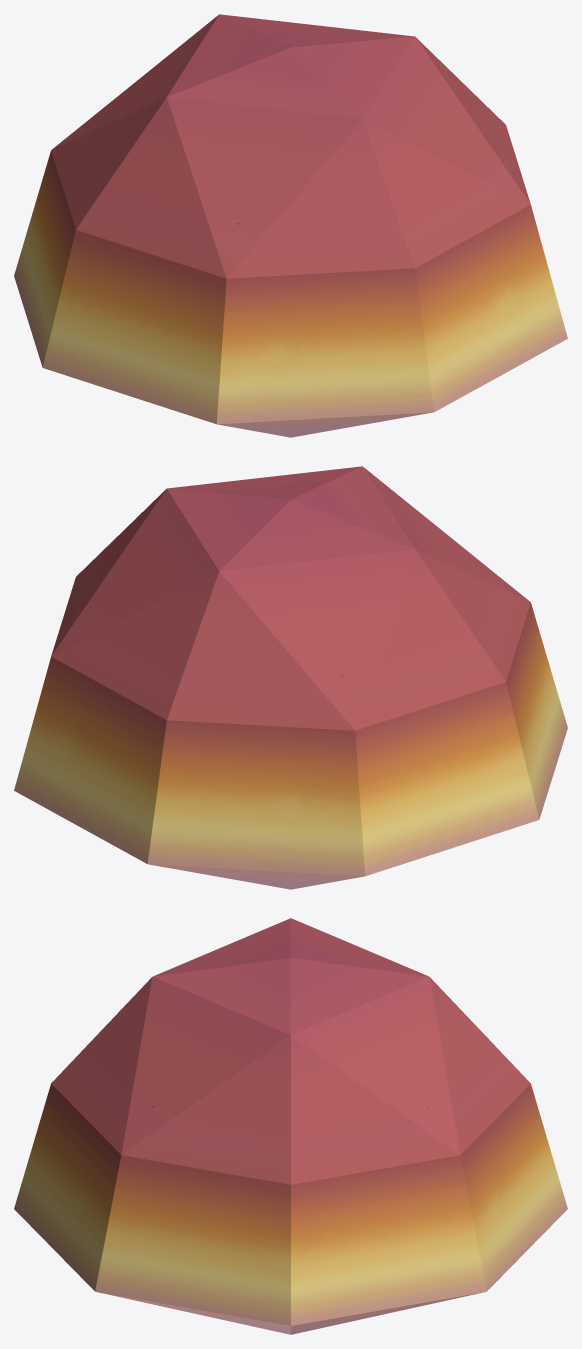
Rendered from skybox.obj.
3 renders of one model, top to bottom at view 1: azimuth 30°, elevation 25°; view 2: azimuth 150°, elevation 25°; view 3: azimuth 270°, elevation 25°, orthographic. The views are drawn at different scales.
Visible parts, largest first — view 1: EgyptBack2_skyboxShape; view 2: EgyptBack2_skyboxShape; view 3: EgyptBack2_skyboxShape.
Boxes of the visible parts, x1,y1,x2,y2 form: EgyptBack2_skyboxShape: [14, 14, 567, 437]; EgyptBack2_skyboxShape: [14, 466, 567, 889]; EgyptBack2_skyboxShape: [14, 918, 567, 1334].
Bounding box in the file's own units: 2076 × 1559 × 2076.
Materials: 4 (4 with a texture image).
